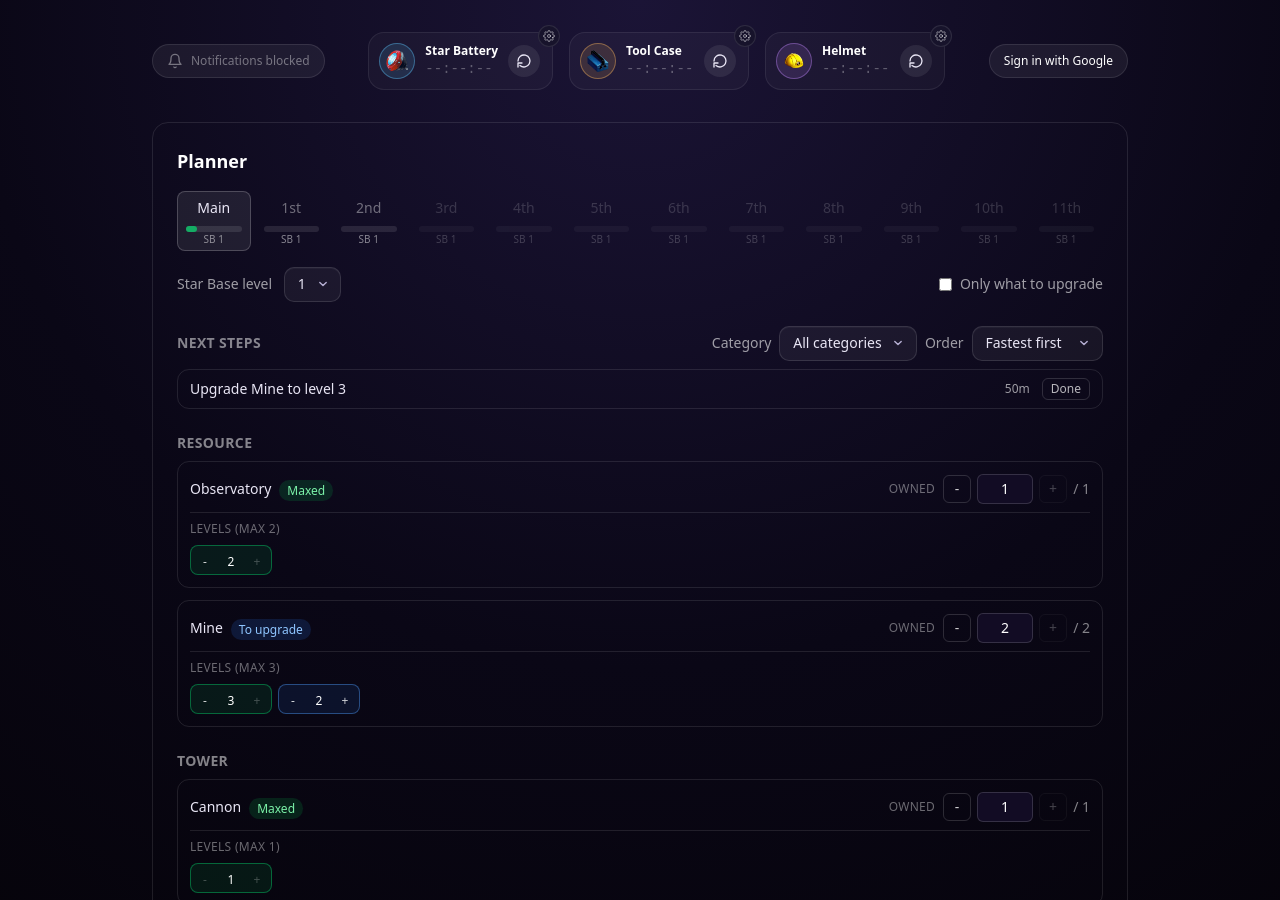
it: App › Planner › Next steps › Done › raises that Building by one level for an upgrade step
What coordinates should you click on to do the following:
click the button with aria-label "Done Upgrade Mine to level 3"
I would click on:
 (1066, 389)
Its box is 1042,378 -> 1090,400.
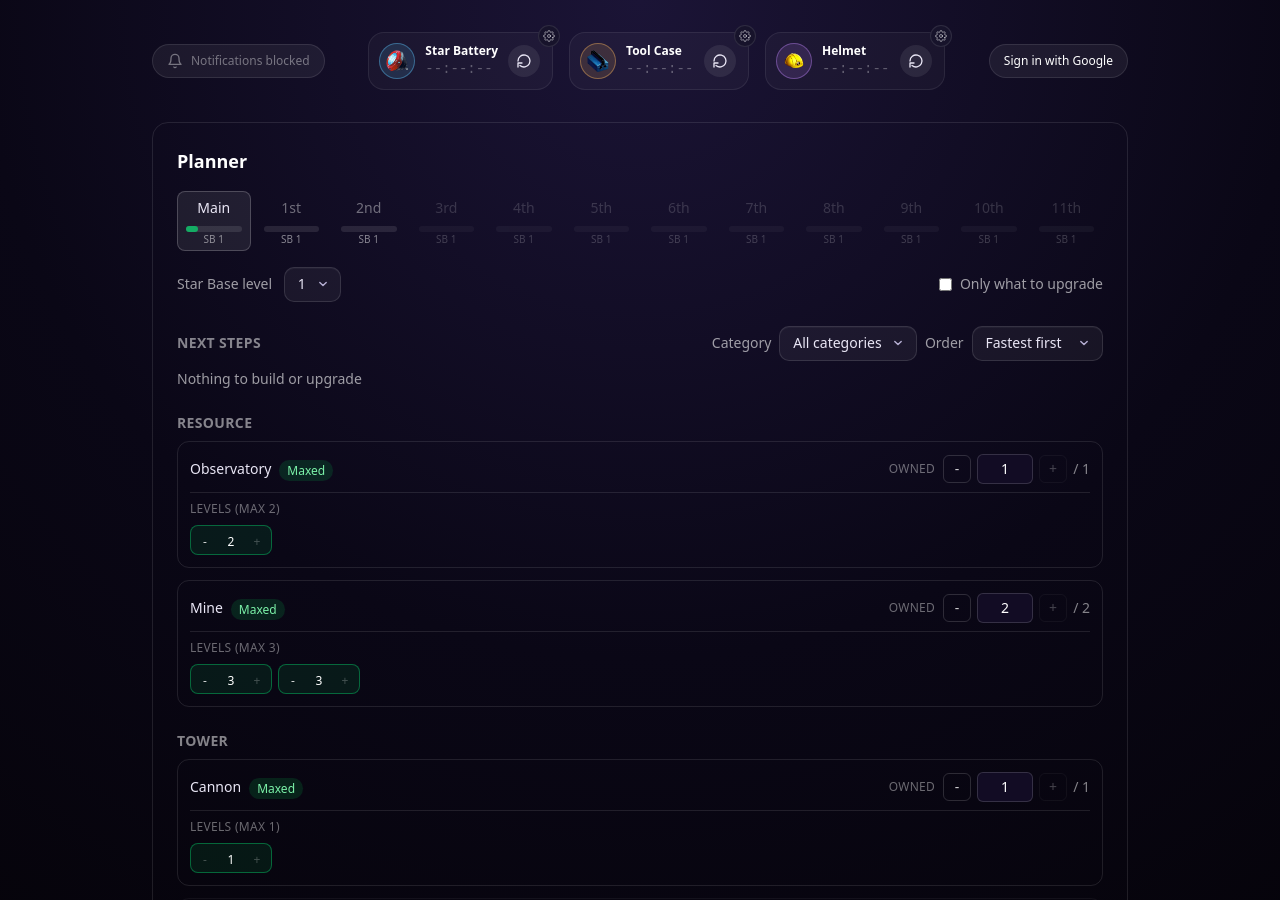
Result: the list named "Statuses" reads "Maxed" at 239,601 -> 277,618
Result: the text "Nothing to build or upgrade" is shown at 177,369 -> 362,388
